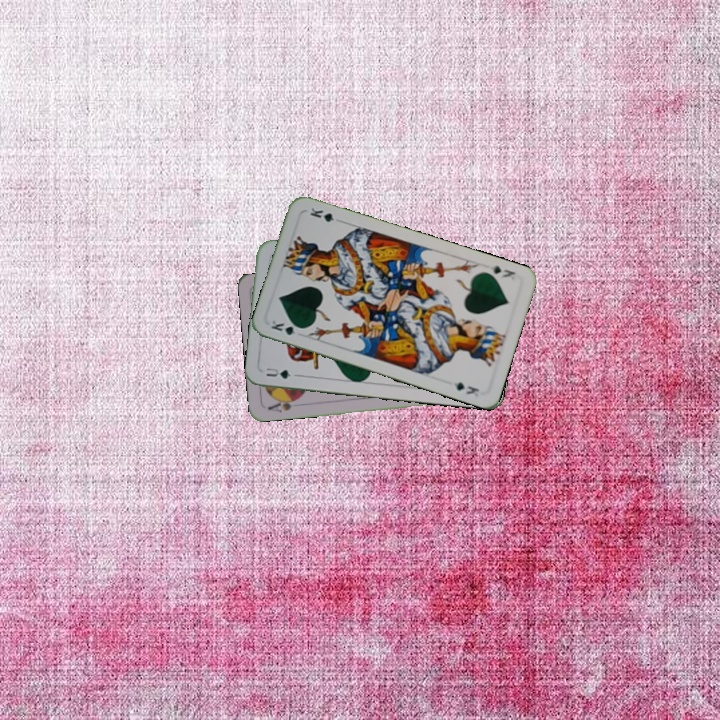GK: (267, 316, 307, 338), (485, 261, 518, 283)
GU: (262, 364, 295, 381)
SA: (264, 394, 302, 415)
